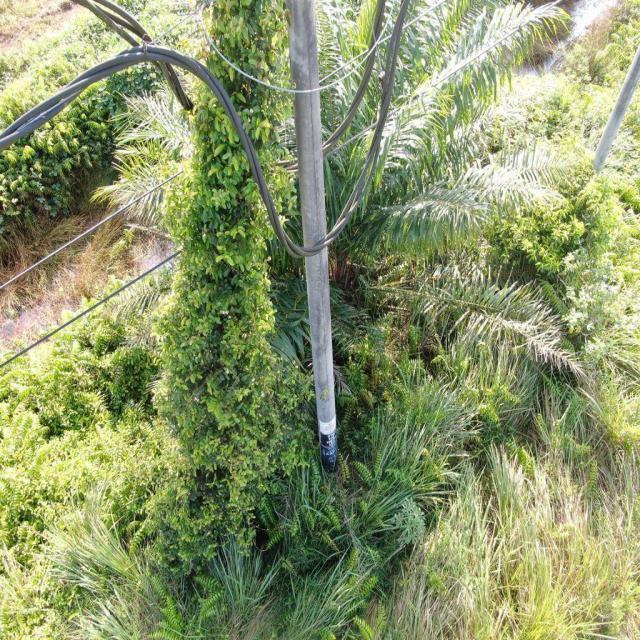critical vegetation: (154, 1, 306, 570)
